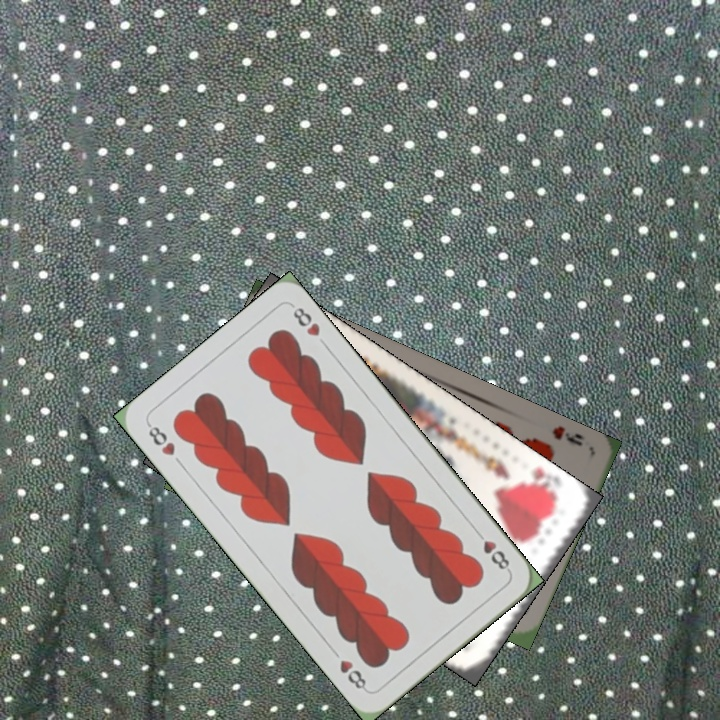H8: (471, 526, 513, 575), (143, 419, 178, 459)
H9: (548, 421, 588, 449)
HK: (518, 462, 551, 489)
